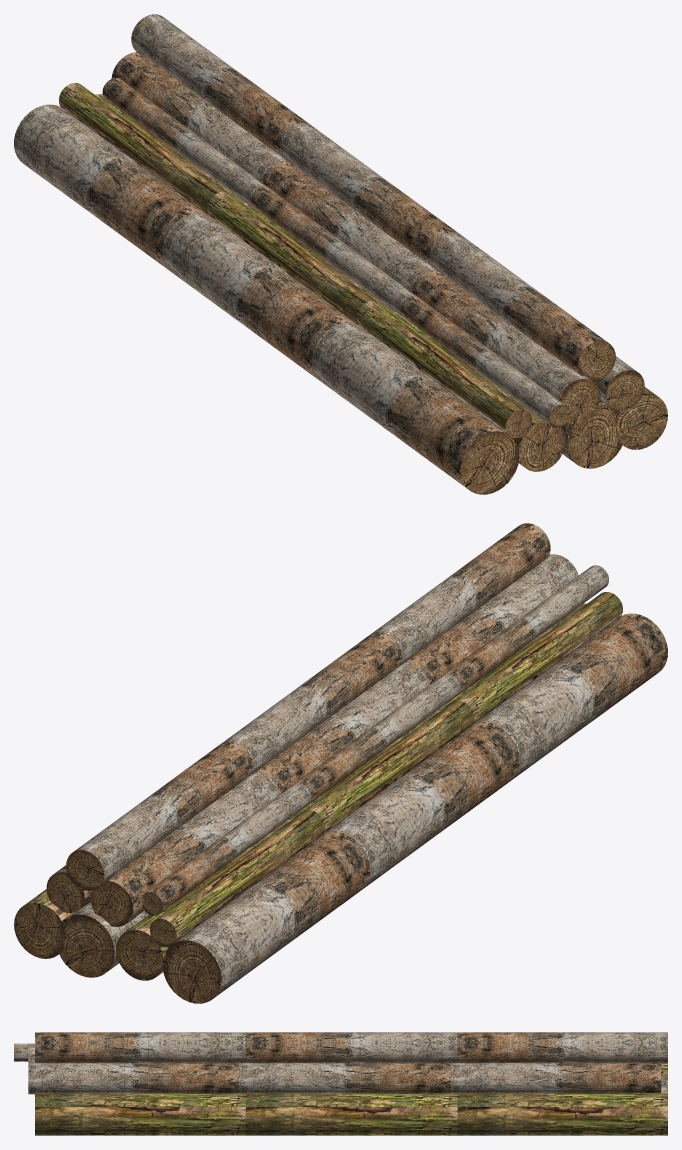
Rendered from brevna_001.fbx.
The picture shows the model from 3 angles, top to bottom: view 1: azimuth 30°, elevation 25°; view 2: azimuth 150°, elevation 25°; view 3: azimuth 270°, elevation 25°; orthographic projection. The views are drawn at different scales.
Parts seen in each view (by area): view 1: Cylinder.003, Cylinder.008, Cylinder.005, Cylinder.004, Cylinder.009, Cylinder.001, Cylinder.002, Cylinder.006, Cylinder.007; view 2: Cylinder.003, Cylinder.008, Cylinder.005, Cylinder.004, Cylinder.009, Cylinder.001, Cylinder.002, Cylinder.006, Cylinder.007; view 3: Cylinder.006, Cylinder.007, Cylinder.008, Cylinder.009.
Part boxes in pixels (<box>): Cylinder.003: <box>14,104,519,494</box>; Cylinder.008: <box>131,14,615,381</box>; Cylinder.005: <box>111,52,600,424</box>; Cylinder.004: <box>59,83,531,438</box>; Cylinder.009: <box>102,78,570,428</box>; Cylinder.001: <box>95,94,565,471</box>; Cylinder.002: <box>562,399,625,468</box>; Cylinder.006: <box>616,387,667,449</box>; Cylinder.007: <box>594,356,644,410</box>; Cylinder.003: <box>162,613,667,1003</box>; Cylinder.008: <box>66,523,550,890</box>; Cylinder.005: <box>90,554,578,926</box>; Cylinder.004: <box>150,592,622,947</box>; Cylinder.009: <box>142,565,608,915</box>; Cylinder.001: <box>116,603,586,980</box>; Cylinder.002: <box>55,902,148,977</box>; Cylinder.006: <box>14,889,71,958</box>; Cylinder.007: <box>46,865,91,912</box>; Cylinder.006: <box>35,1093,667,1135</box>; Cylinder.007: <box>28,1063,661,1094</box>; Cylinder.008: <box>35,1032,667,1063</box>; Cylinder.009: <box>14,1043,34,1061</box>.
Size of the model in its own units: 142 by 82.33 by 545.
